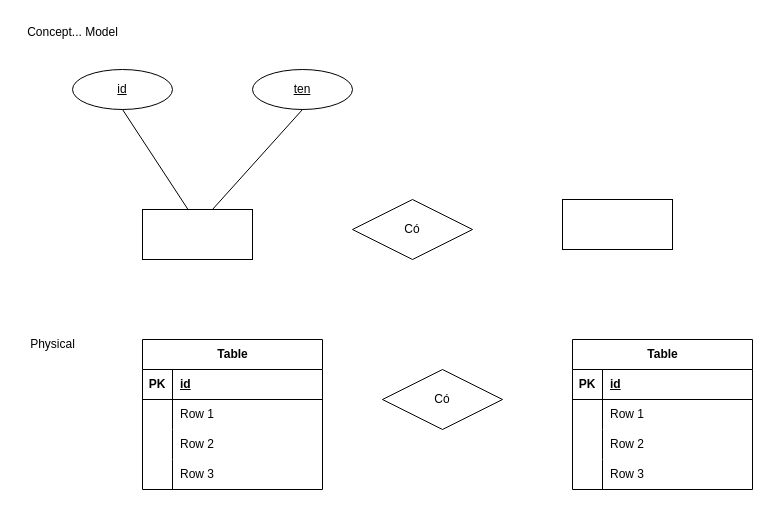
Some shapes in this 770 by 507 pixel diagram are drawn without their labels. Each missing label, with the box of its shape:
bac_si: (142, 208, 252, 260)
benh_nhan: (562, 198, 672, 250)
